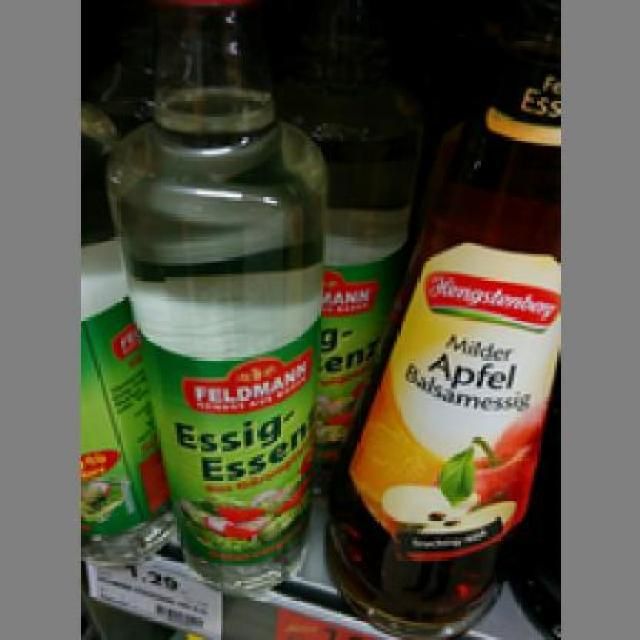Vinegar: (323, 48, 554, 634), (106, 0, 314, 589)
